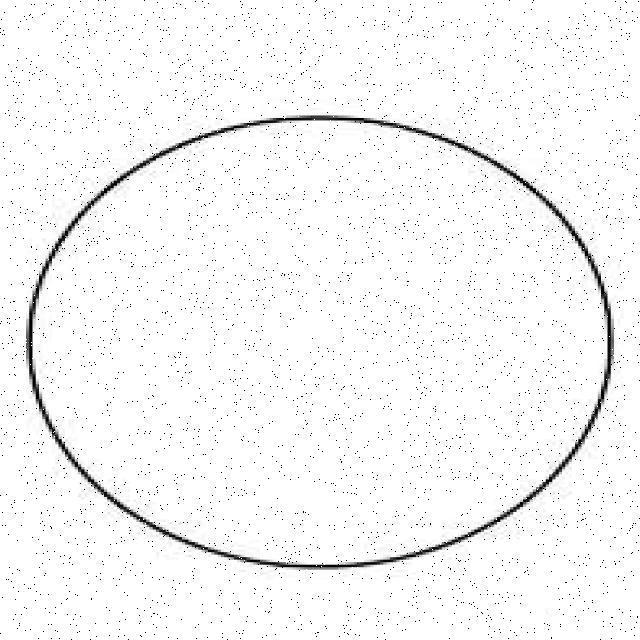Circle: (20, 110, 627, 574)
